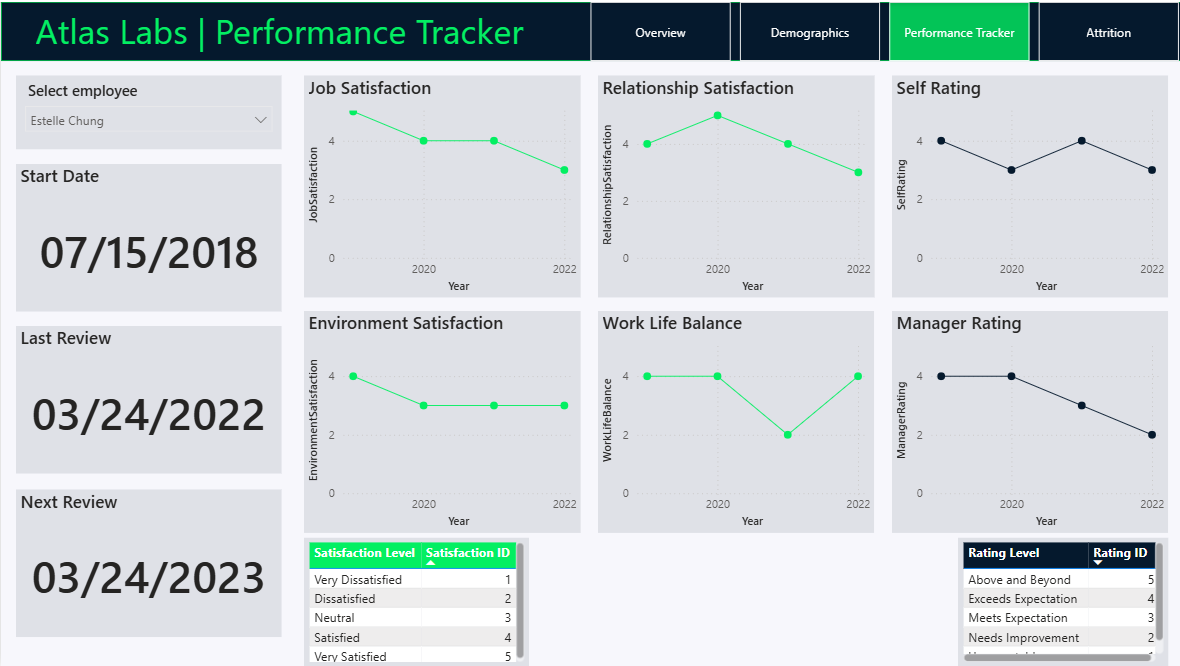

Layout of this report page (visuals, bound fields, positions):
{"tool":"powerbi","page":{"name":"Performance Tracker","canvas":[1280,720],"ordinal":2},"visuals":[{"type":"shape","box":[0,0,1280,64],"z":0},{"type":"textbox","box":[32,0,624,64],"z":1000},{"type":"pageNavigator","box":[640,0,640,64],"z":2000},{"type":"slicer","fields":{"Values":["DimEmployee.FullName"]},"box":[16,80,288,80],"z":3000},{"type":"card","title":"Start Date","fields":{"Values":["Min(DimEmployee.HireDate)"]},"box":[16,176,288,160],"z":4000},{"type":"card","title":"Last Review","fields":{"Values":["_Measures.LastReviewDate"]},"box":[16,352,288,160],"z":5000},{"type":"card","title":"Next Review","fields":{"Values":["_Measures.NextReviewDate"]},"box":[16,528,288,160],"z":6000},{"type":"lineChart","title":"Job Satisfaction","fields":{"Y":["_Measures.JobSatisfaction"],"Category":["DimDate.Year"]},"box":[328.3,79.8,300,240.3],"z":7000},{"type":"lineChart","title":"Relationship Satisfaction","fields":{"Y":["_Measures.RelationshipSatisfaction"],"Category":["DimDate.Year"]},"box":[646.9,79.8,300,240.3],"z":8000},{"type":"lineChart","title":"Self Rating","fields":{"Y":["_Measures.SelfRating"],"Category":["DimDate.Year"]},"box":[965.5,79.8,299.7,240.3],"z":9000},{"type":"lineChart","title":"Work Life Balance","fields":{"Y":["_Measures.WorkLifeBalance"],"Category":["DimDate.Year"]},"box":[647.4,335.5,299.7,240.3],"z":10000},{"type":"lineChart","title":"Manager Rating","fields":{"Y":["_Measures.ManagerRating"],"Category":["DimDate.Year"]},"box":[965.5,335.5,299.7,240.3],"z":11000},{"type":"lineChart","title":"Environment Satisfaction","fields":{"Y":["_Measures.EnvironmentSatisfaction"],"Category":["DimDate.Year"]},"box":[328.3,335.5,300,240.3],"z":12000},{"type":"tableEx","fields":{"Values":["DimRatingLevel.RatingLevel","DimRatingLevel.RatingID"]},"box":[1037.7,580.7,227.7,139.9],"z":13000},{"type":"tableEx","fields":{"Values":["DimSatisfiedLevel.SatisfactionLevel","DimSatisfiedLevel.SatisfactionID"]},"box":[328.6,580.7,244,139.9],"z":14000}]}

Visuals, with their boxes in screenshot pixels (x1, y1, x2, y2), scaled from the page's 1280x720 canvas onto the 1180x666 screenshot:
shape: locate(0, 0, 1179, 59)
textbox: locate(30, 0, 605, 59)
pageNavigator: locate(590, 0, 1179, 59)
slicer - DimEmployee.FullName: locate(15, 74, 280, 148)
"Start Date" card: locate(15, 163, 280, 311)
"Last Review" card: locate(15, 326, 280, 474)
"Next Review" card: locate(15, 488, 280, 636)
"Job Satisfaction" lineChart: locate(303, 74, 579, 296)
"Relationship Satisfaction" lineChart: locate(596, 74, 873, 296)
"Self Rating" lineChart: locate(890, 74, 1166, 296)
"Work Life Balance" lineChart: locate(597, 310, 873, 533)
"Manager Rating" lineChart: locate(890, 310, 1166, 533)
"Environment Satisfaction" lineChart: locate(303, 310, 579, 533)
tableEx - DimRatingLevel.RatingLevel x DimRatingLevel.RatingID: locate(957, 537, 1167, 665)
tableEx - DimSatisfiedLevel.SatisfactionLevel x DimSatisfiedLevel.SatisfactionID: locate(303, 537, 528, 665)
